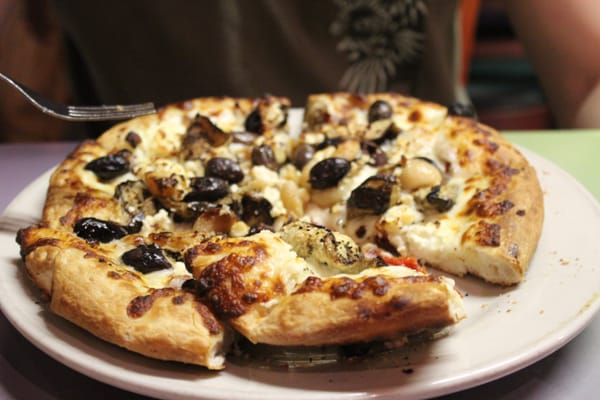salad: (0, 67, 156, 121)
